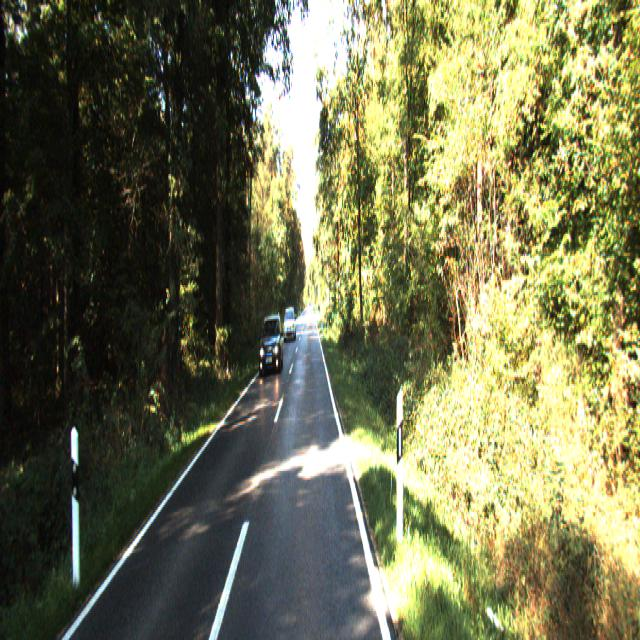Car: (258, 313, 284, 380), (283, 309, 296, 343)
